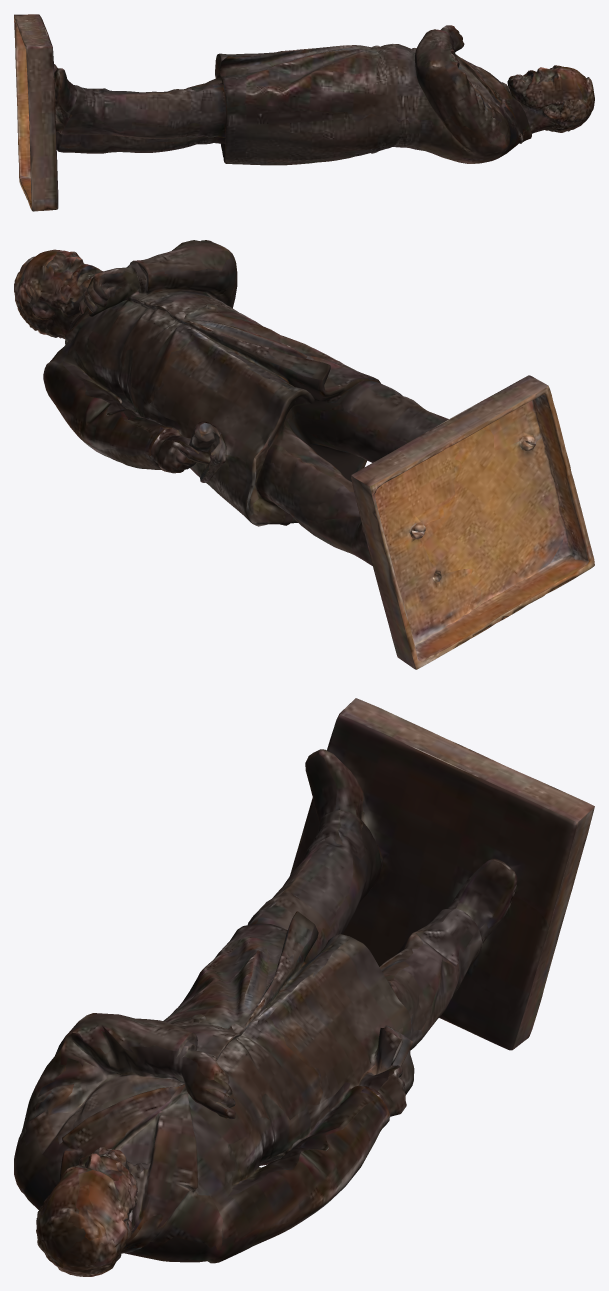
3 renders of one model, top to bottom at view 1: azimuth 30°, elevation 25°; view 2: azimuth 150°, elevation 25°; view 3: azimuth 270°, elevation 25°, orthographic. The views are drawn at different scales.
Bounding box in the file's own units: 474 × 170 × 296.
1 material, 1 textured.
